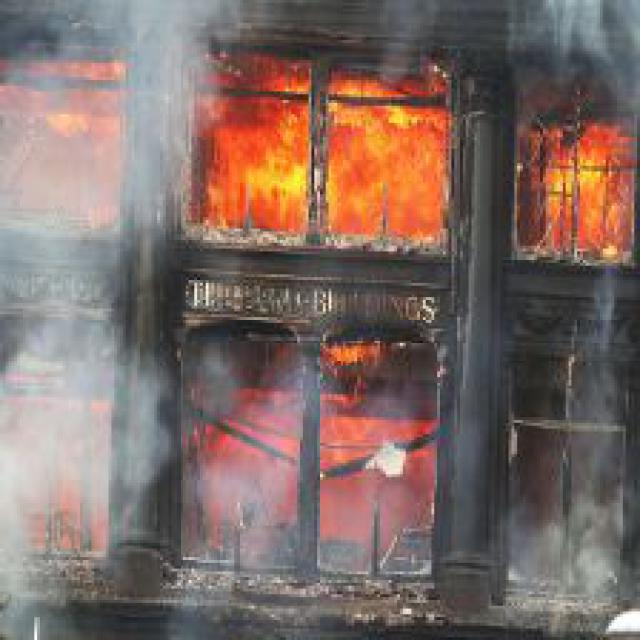fire: (203, 60, 454, 246), (517, 126, 634, 263)
